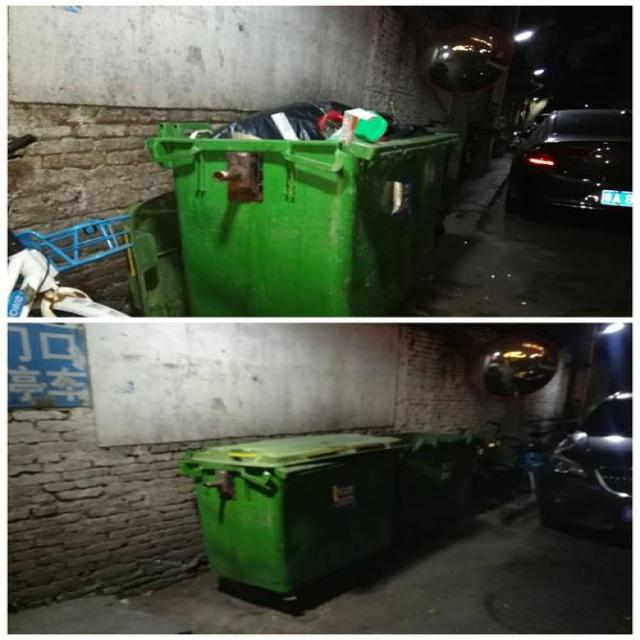garbage_bin: (179, 430, 407, 588), (401, 431, 480, 534)
overflow: (143, 99, 461, 315)
